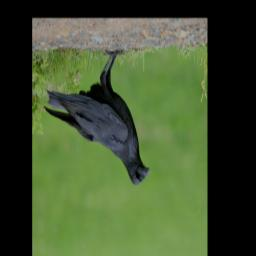Crow: (43, 49, 151, 187)
